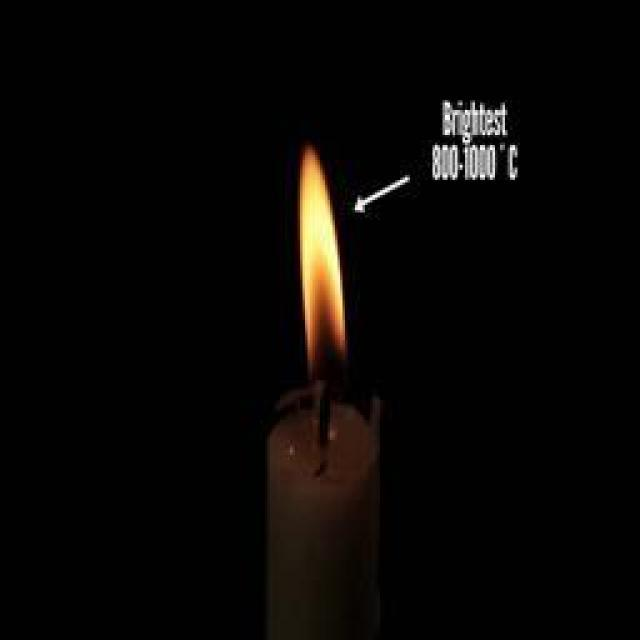Fire: (294, 146, 348, 364)
